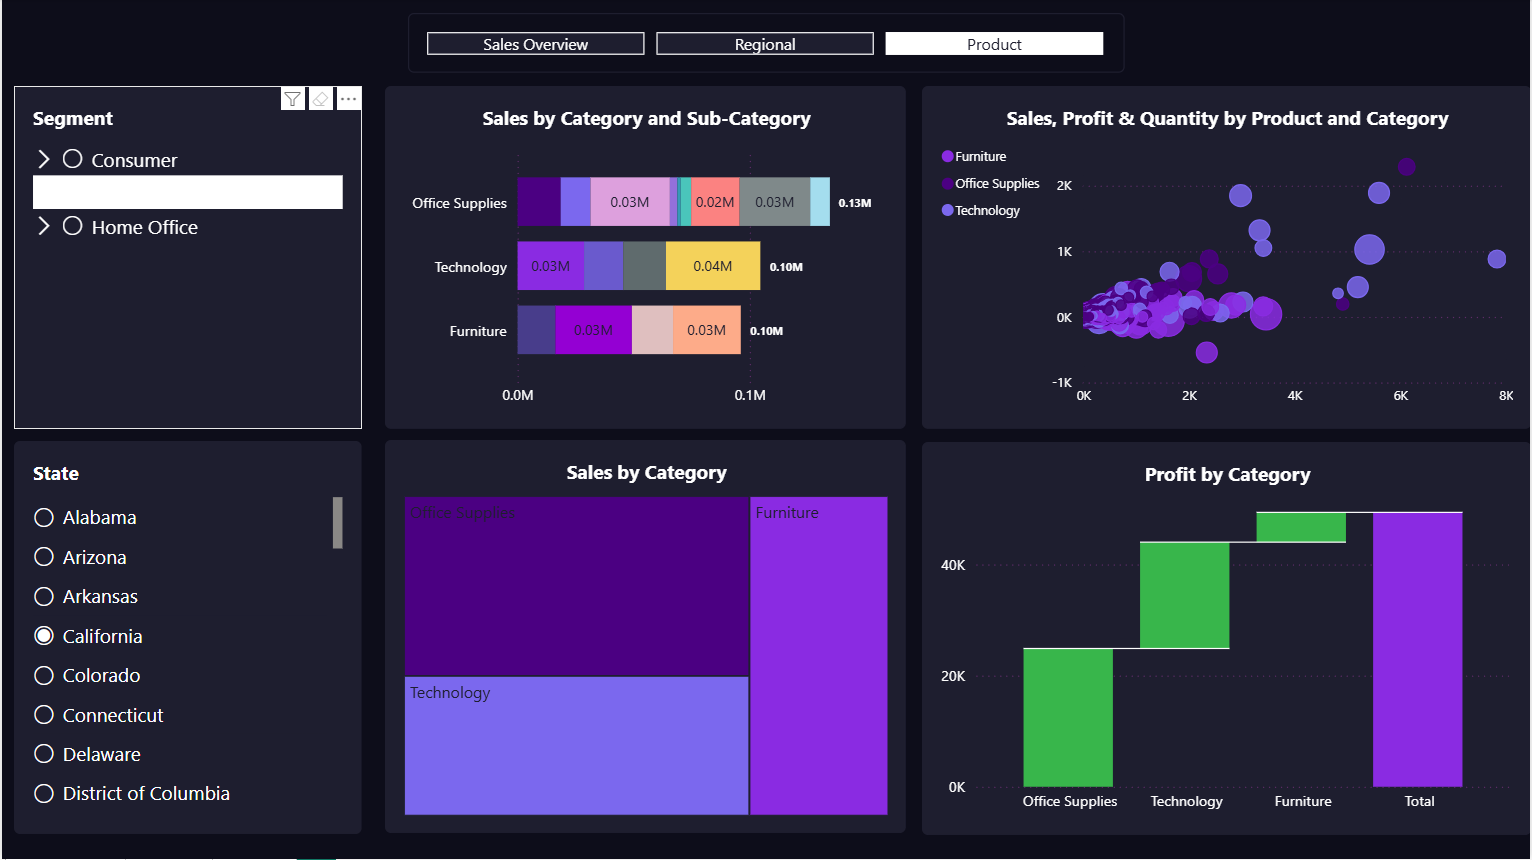

What the dashboard file says about the page in this screenshot:
{"tool":"powerbi","page":{"name":"Product ","canvas":[1280,720],"ordinal":2},"visuals":[{"type":"pageNavigator","box":[340.1,11.5,599.8,50.4],"z":0},{"type":"barChart","title":"Sales by Category and Sub-Category","fields":{"Category":["SuperStoreSalesData.Category"],"Series":["SuperStoreSalesData.Sub-Category"],"Y":["Sum(SuperStoreSalesData.Sales)"]},"box":[320.9,72.5,436.4,287.2],"z":1000},{"type":"scatterChart","title":"Sales, Profit & Quantity by Product and Category","fields":{"X":["Sum(SuperStoreSalesData.Sales)"],"Y":["Sum(SuperStoreSalesData.Profit)"],"Size":["Sum(SuperStoreSalesData.Quantity)"],"Category":["SuperStoreSalesData.Product Name"],"Series":["SuperStoreSalesData.Category"]},"box":[770.2,72.5,509.8,287.2],"z":2000},{"type":"treemap","title":"Sales by Category","fields":{"Values":["Sum(SuperStoreSalesData.Sales)"],"Group":["SuperStoreSalesData.Category"]},"box":[320.9,369.2,436.4,329.5],"z":3000},{"type":"waterfallChart","title":"Profit by Category","fields":{"Y":["SuperStoreSalesData.Total Profit"],"Category":["SuperStoreSalesData.Category"]},"box":[770.2,370.9,509.8,328.6],"z":4000},{"type":"listSlicer","fields":{"Values":["SuperStoreSalesData.State"]},"box":[10.4,370,290.7,328.6],"z":5000},{"type":"listSlicer","fields":{"Values":["SuperStoreSalesData.Segment","SuperStoreSalesData.Sub-Category"]},"box":[10.4,72.5,290.7,287.2],"z":6000}]}

Visuals, with their boxes in screenshot pixels (x1, y1, x2, y2), scaled from the page's 1280x720 canvas onto the 1532x860 screenshot:
pageNavigator: (407, 14, 1125, 74)
"Sales by Category and Sub-Category" barChart: (384, 87, 906, 430)
"Sales, Profit & Quantity by Product and Category" scatterChart: (922, 87, 1531, 430)
"Sales by Category" treemap: (384, 441, 906, 835)
"Profit by Category" waterfallChart: (922, 443, 1531, 836)
listSlicer - SuperStoreSalesData.State: (12, 442, 360, 834)
listSlicer - SuperStoreSalesData.Segment x SuperStoreSalesData.Sub-Category: (12, 87, 360, 430)
